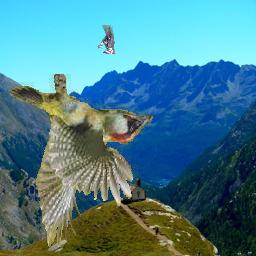Woodpecker: (8, 74, 154, 250), (97, 26, 116, 55)
